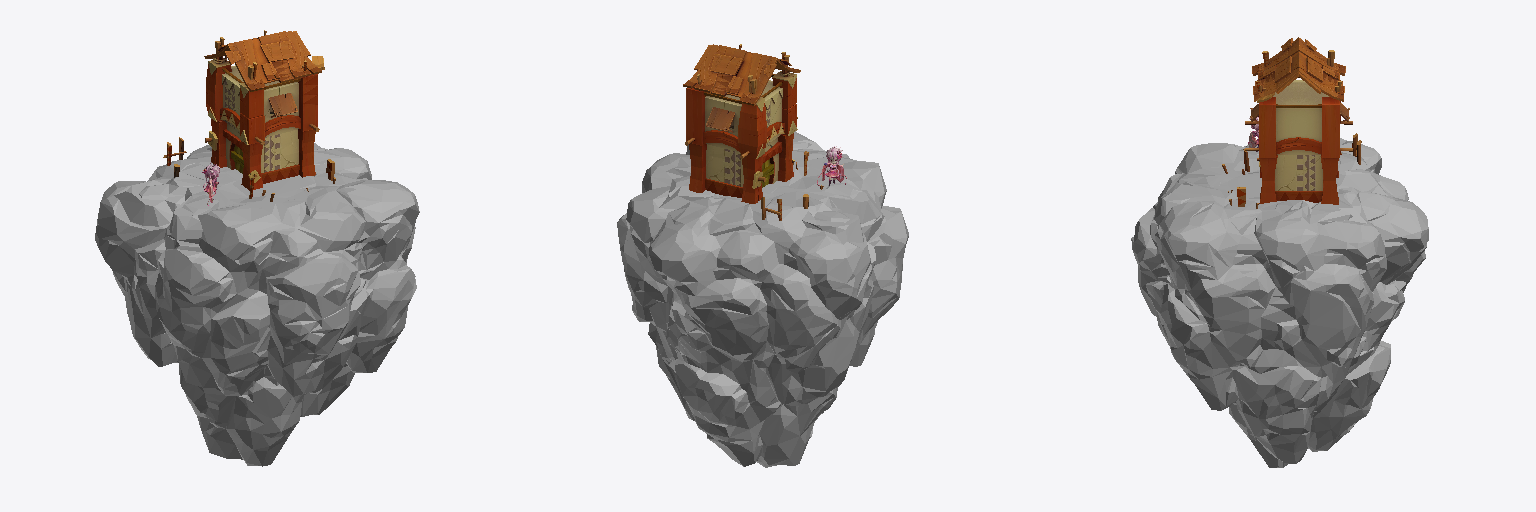
The picture shows the model from 3 angles: view 1: azimuth 30°, elevation 25°; view 2: azimuth 150°, elevation 25°; view 3: azimuth 270°, elevation 25°; orthographic projection.
Visible parts, largest first — view 1: Object_da8ade0b89fdea3ee[number redacted]f8e0108.jpg, Object_HOUSE_01.jpg, Object_HOUSE_COLUM_01.jpg; view 2: Object_da8ade0b89fdea3ee[number redacted]f8e0108.jpg, Object_HOUSE_01.jpg, Object_HOUSE_COLUM_01.jpg, Object_CH888A_col.jpg; view 3: Object_da8ade0b89fdea3ee[number redacted]f8e0108.jpg, Object_HOUSE_01.jpg, Object_HOUSE_COLUM_01.jpg.
Boxes of the visible parts, x1=… form: Object_da8ade0b89fdea3ee[number redacted]f8e0108.jpg: x1=95, y1=143, x2=419, y2=466; Object_HOUSE_01.jpg: x1=204, y1=31, x2=324, y2=190; Object_HOUSE_COLUM_01.jpg: x1=163, y1=30, x2=335, y2=201; Object_da8ade0b89fdea3ee[number redacted]f8e0108.jpg: x1=617, y1=131, x2=908, y2=467; Object_HOUSE_01.jpg: x1=683, y1=44, x2=800, y2=203; Object_HOUSE_COLUM_01.jpg: x1=685, y1=44, x2=823, y2=220; Object_CH888A_col.jpg: x1=817, y1=146, x2=846, y2=185; Object_da8ade0b89fdea3ee[number redacted]f8e0108.jpg: x1=1131, y1=138, x2=1428, y2=467; Object_HOUSE_01.jpg: x1=1250, y1=37, x2=1349, y2=204; Object_HOUSE_COLUM_01.jpg: x1=1222, y1=50, x2=1361, y2=208.
Size of the model in its own units: 1.54 by 2.5 by 1.61.
Materials: 5 (3 with a texture image).